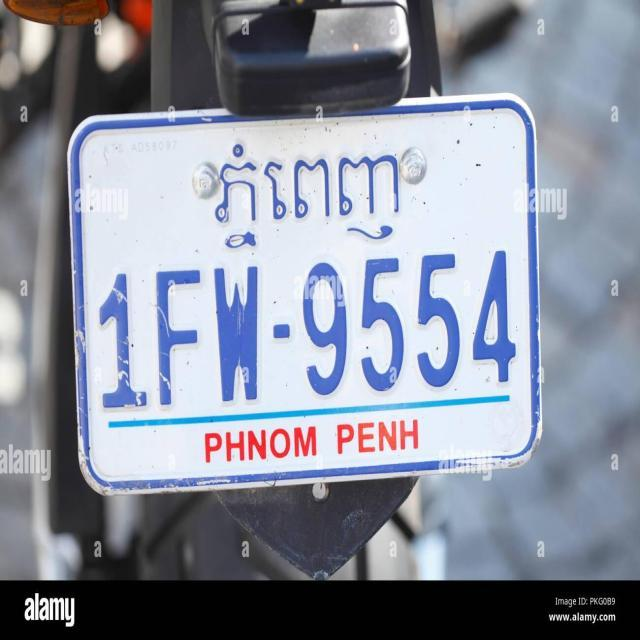Phnom_Penh: (215, 142, 400, 250)
